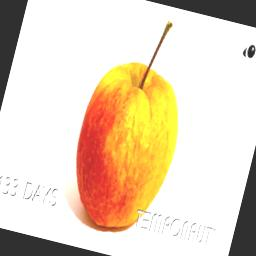Apple Unripe: (57, 0, 210, 244)
